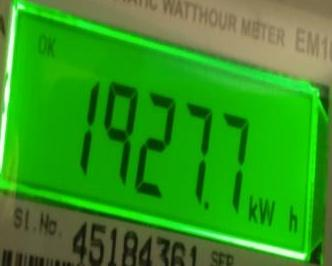.: (247, 190, 300, 235)
0: (202, 198, 213, 214)
2: (75, 76, 103, 181)
3: (133, 90, 176, 198)
8: (212, 110, 251, 219), (176, 99, 214, 202)
:: (99, 79, 135, 184)
